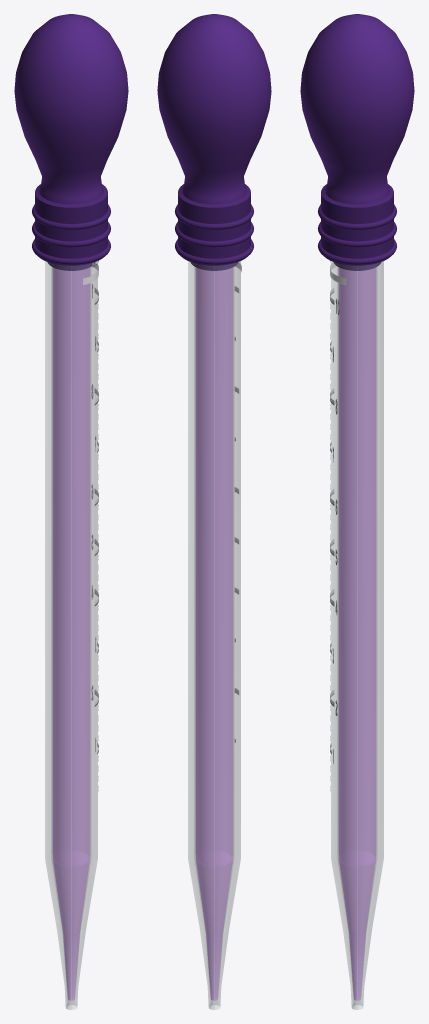
The model's file is pipette_unknown.glb.
3 renders of one model, left to right at view 1: azimuth 90°, elevation 25°; view 2: azimuth 150°, elevation 25°; view 3: azimuth 270°, elevation 25°, orthographic.
Parts seen in each view (by area): view 1: GlassBody.005, LiquidStem.002, PipetteBulb.002, PipetteCollar.002, LiquidTip.002, PipetteGraduations.002, DetailV2_PipGrip_PipetteUnknown_Root_0, DetailV2_PipGrip_PipetteUnknown_Root_1, DetailV2_PipGrip_PipetteUnknown_Root_2; view 2: GlassBody.005, LiquidStem.002, PipetteBulb.002, PipetteCollar.002, LiquidTip.002, DetailV2_PipGrip_PipetteUnknown_Root_0, DetailV2_PipGrip_PipetteUnknown_Root_1, DetailV2_PipGrip_PipetteUnknown_Root_2; view 3: GlassBody.005, LiquidStem.002, PipetteBulb.002, PipetteCollar.002, LiquidTip.002, PipetteGraduations.002, DetailV2_PipGrip_PipetteUnknown_Root_0, DetailV2_PipGrip_PipetteUnknown_Root_1, DetailV2_PipGrip_PipetteUnknown_Root_2.
Boxes of the visible parts, x1,y1,x2,y2 form: GlassBody.005: (45, 261, 97, 1009); LiquidStem.002: (53, 267, 89, 865); PipetteBulb.002: (14, 14, 128, 204); PipetteCollar.002: (35, 184, 107, 265); LiquidTip.002: (53, 858, 89, 1000); PipetteGraduations.002: (83, 261, 98, 790); DetailV2_PipGrip_PipetteUnknown_Root_0: (32, 239, 110, 264); DetailV2_PipGrip_PipetteUnknown_Root_1: (32, 222, 110, 247); DetailV2_PipGrip_PipetteUnknown_Root_2: (32, 204, 110, 229); GlassBody.005: (188, 261, 240, 1009); LiquidStem.002: (196, 267, 232, 865); PipetteBulb.002: (157, 14, 271, 204); PipetteCollar.002: (178, 184, 250, 265); LiquidTip.002: (196, 858, 232, 1000); DetailV2_PipGrip_PipetteUnknown_Root_0: (175, 239, 253, 264); DetailV2_PipGrip_PipetteUnknown_Root_1: (175, 222, 253, 247); DetailV2_PipGrip_PipetteUnknown_Root_2: (175, 204, 253, 229); GlassBody.005: (331, 261, 383, 1009); LiquidStem.002: (339, 267, 375, 865); PipetteBulb.002: (300, 14, 414, 204); PipetteCollar.002: (321, 184, 393, 265); LiquidTip.002: (339, 858, 375, 1000); PipetteGraduations.002: (330, 261, 345, 790); DetailV2_PipGrip_PipetteUnknown_Root_0: (318, 239, 396, 264); DetailV2_PipGrip_PipetteUnknown_Root_1: (318, 222, 396, 247); DetailV2_PipGrip_PipetteUnknown_Root_2: (318, 204, 396, 229).
Size of the model in its own units: 0.025 by 0.2395 by 0.025.
5 materials, 1 textured.
